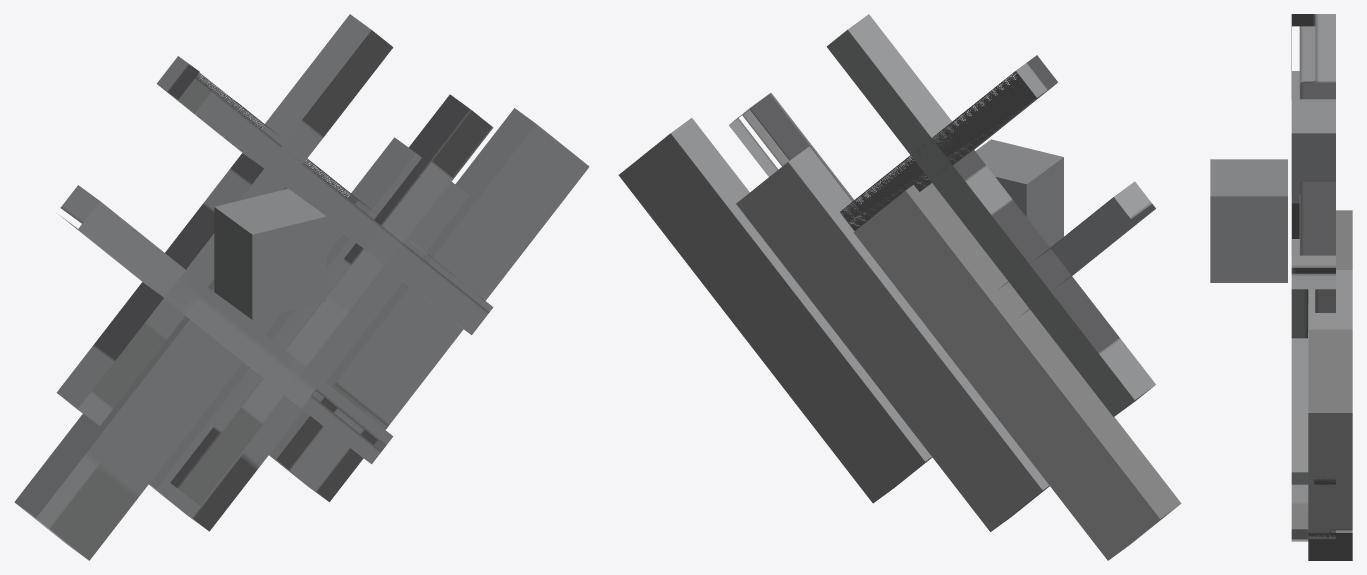
3 views of the same model, side by side, from view 1: azimuth 30°, elevation 25°; view 2: azimuth 150°, elevation 25°; view 3: azimuth 270°, elevation 25° (orthographic). The views are drawn at different scales.
Bounding box in the file's own units: 0.9156 × 0.7429 × 0.2004.
